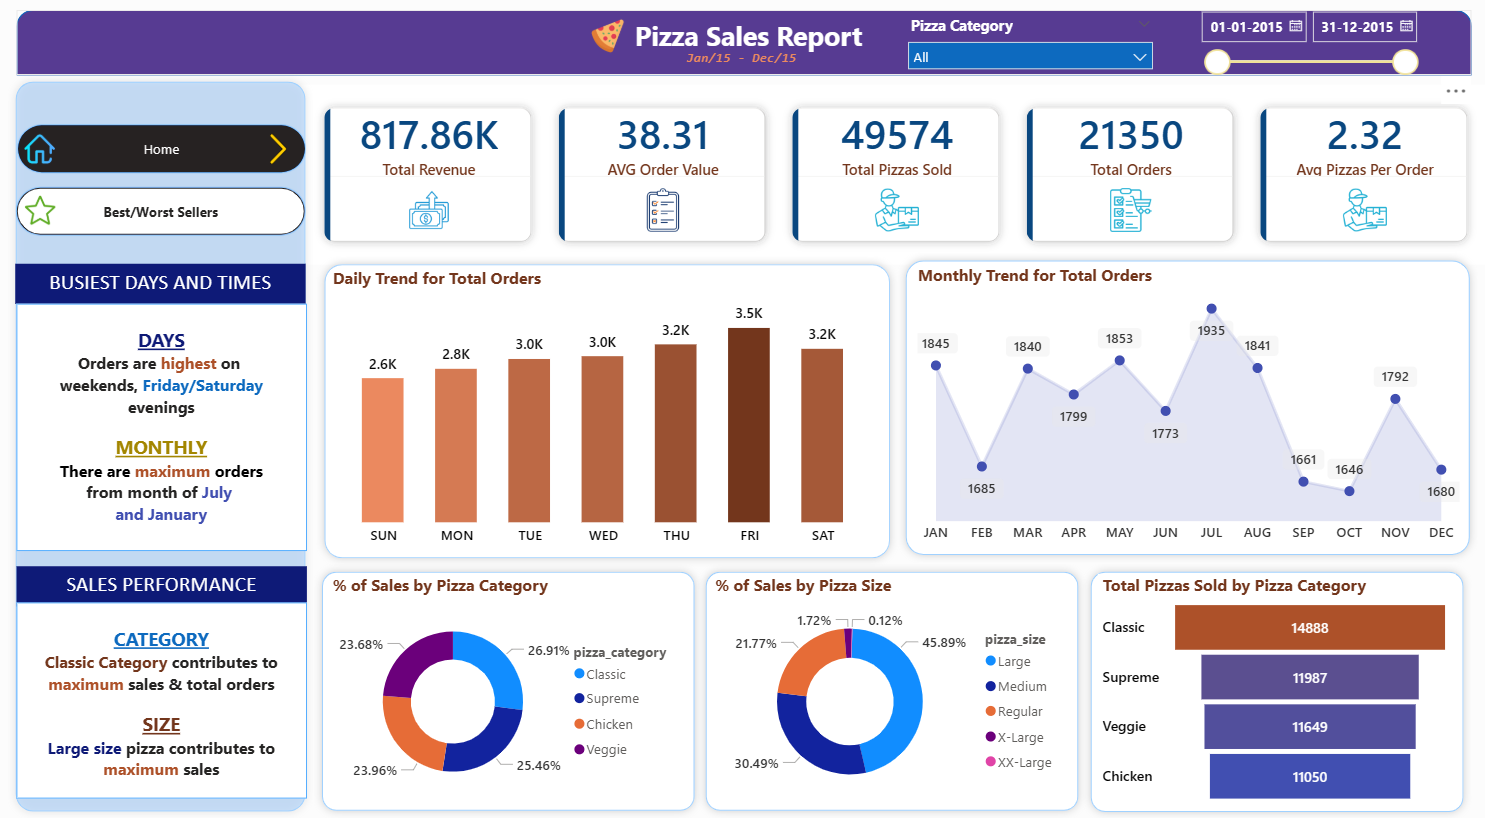

This screenshot's page, from the dashboard's own definition file:
{"tool":"powerbi","page":{"name":"Home","canvas":[1490,820],"ordinal":0},"visuals":[{"type":"cardVisual","fields":{"Data":["pizza_sales.Total Revenue","pizza_sales.AVG Order Value","pizza_sales.Total Pizzas Sold","pizza_sales.Total Orders","pizza_sales.Avg Pizzas Per Order"]},"box":[297.1,80.6,1202.9,190],"z":0},{"type":"shape","box":[898.6,252.9,580.1,310.4],"z":0,"group":"g1"},{"type":"shape","box":[16.9,10,1455.4,65.4],"z":1000},{"type":"areaChart","title":"Monthly Trend for Total Orders","fields":{"Category":["pizza_sales.Order Month"],"Y":["pizza_sales.Total Orders"]},"box":[914,263.8,552.2,288.6],"z":1000,"group":"g1"},{"type":"textbox","box":[620,12.3,258.9,46.3],"z":2000},{"type":"textbox","box":[682.7,42.2,133.5,31.3],"z":3000},{"type":"image","box":[585.9,19.1,45,34.1],"z":4000},{"type":"shape","box":[317.1,255.7,581.4,310],"z":5000,"group":"g2"},{"type":"shape","box":[314.6,563.2,388.6,255.1],"z":5000},{"type":"columnChart","title":"Daily Trend for Total Orders","fields":{"Category":["pizza_sales.Order Day"],"Y":["pizza_sales.Total Orders"]},"box":[328.3,265.2,552,288.2],"z":6000,"group":"g2"},{"type":"shape","box":[698.4,563.2,388.6,255.1],"z":6000},{"type":"shape","box":[1083.8,563.8,388.8,256.2],"z":7000},{"type":"group","id":"g1","title":"Group 1","box":[898.6,252.9,581.4,310],"z":8000},{"type":"shape","box":[8.6,74.3,305.7,745.7],"z":9000},{"type":"group","id":"g2","title":"Group 2","box":[317.1,255.7,581.4,310],"z":10000},{"type":"donutChart","title":"% of Sales by Pizza Category","fields":{"Category":["pizza_sales.pizza_category"],"Y":["pizza_sales.Total Revenue"]},"box":[328.9,574.1,359.7,234.4],"z":11000},{"type":"donutChart","title":"% of Sales by Pizza Size","fields":{"Y":["pizza_sales.Total Revenue"],"Category":["pizza_sales.pizza_size"]},"box":[711.8,574.1,359.7,234.4],"z":12000},{"type":"funnel","title":"Total Pizzas Sold by Pizza Category","fields":{"Category":["pizza_sales.pizza_category"],"Y":["pizza_sales.Total Pizzas Sold"]},"box":[1098.8,573.8,357.5,235],"z":13000},{"type":"textbox","box":[15.7,264.3,290,40],"z":14000},{"type":"textbox","box":[17.5,303.8,290,247.5],"z":15000},{"type":"textbox","box":[17,566,290,40],"z":16000},{"type":"textbox","box":[17,602,290,196],"z":17000},{"type":"slicer","fields":{"Values":["pizza_sales.pizza_category"]},"box":[898.8,10,265,65],"z":18000},{"type":"slicer","fields":{"Values":["pizza_sales.order_date"]},"box":[1190,1.2,237.5,78.8],"z":19000},{"type":"pageNavigator","box":[16.2,186.2,291.2,50],"z":20000},{"type":"pageNavigator","box":[17.5,123.8,290,50],"z":21000},{"type":"image","box":[261.2,133.8,36.2,30],"z":22000},{"type":"image","box":[17.5,133.8,46.2,30],"z":24000},{"type":"image","box":[18.8,195,45,30],"z":24500}]}

Visuals, with their boxes in screenshot pixels (x1, y1, x2, y2), scaled from the page's 1490x820 canvas onto the 1485x818 screenshot:
cardVisual - pizza_sales.Total Revenue x pizza_sales.AVG Order Value: <bbox>296, 80, 1484, 270</bbox>
shape: <bbox>896, 252, 1474, 562</bbox>
shape: <bbox>17, 10, 1467, 75</bbox>
"Monthly Trend for Total Orders" areaChart: <bbox>911, 263, 1461, 551</bbox>
textbox: <bbox>618, 12, 876, 58</bbox>
textbox: <bbox>680, 42, 813, 73</bbox>
image: <bbox>584, 19, 629, 53</bbox>
shape: <bbox>316, 255, 895, 564</bbox>
shape: <bbox>314, 562, 701, 816</bbox>
"Daily Trend for Total Orders" columnChart: <bbox>327, 265, 877, 552</bbox>
shape: <bbox>696, 562, 1083, 816</bbox>
shape: <bbox>1080, 562, 1468, 817</bbox>
"Group 1" group: <bbox>896, 252, 1475, 562</bbox>
shape: <bbox>9, 74, 313, 817</bbox>
"Group 2" group: <bbox>316, 255, 895, 564</bbox>
"% of Sales by Pizza Category" donutChart: <bbox>328, 573, 686, 807</bbox>
"% of Sales by Pizza Size" donutChart: <bbox>709, 573, 1068, 807</bbox>
"Total Pizzas Sold by Pizza Category" funnel: <bbox>1095, 572, 1451, 807</bbox>
textbox: <bbox>16, 264, 305, 304</bbox>
textbox: <bbox>17, 303, 306, 550</bbox>
textbox: <bbox>17, 565, 306, 605</bbox>
textbox: <bbox>17, 601, 306, 796</bbox>
slicer - pizza_sales.pizza_category: <bbox>896, 10, 1160, 75</bbox>
slicer - pizza_sales.order_date: <bbox>1186, 1, 1423, 80</bbox>
pageNavigator: <bbox>16, 186, 306, 236</bbox>
pageNavigator: <bbox>17, 123, 306, 173</bbox>
image: <bbox>260, 133, 296, 163</bbox>
image: <bbox>17, 133, 63, 163</bbox>
image: <bbox>19, 195, 64, 224</bbox>
